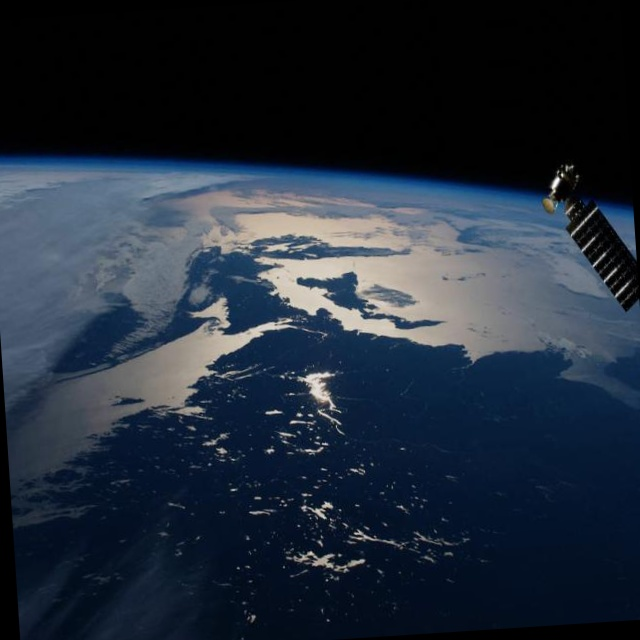satellite: (511, 101, 640, 340)
